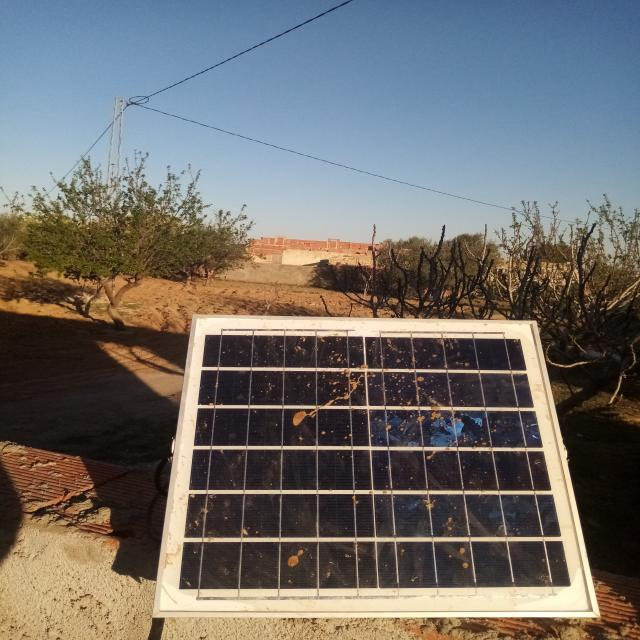faulty: (162, 318, 597, 623)
